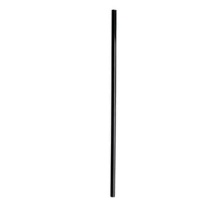drinking_straw: (105, 4, 122, 203)
